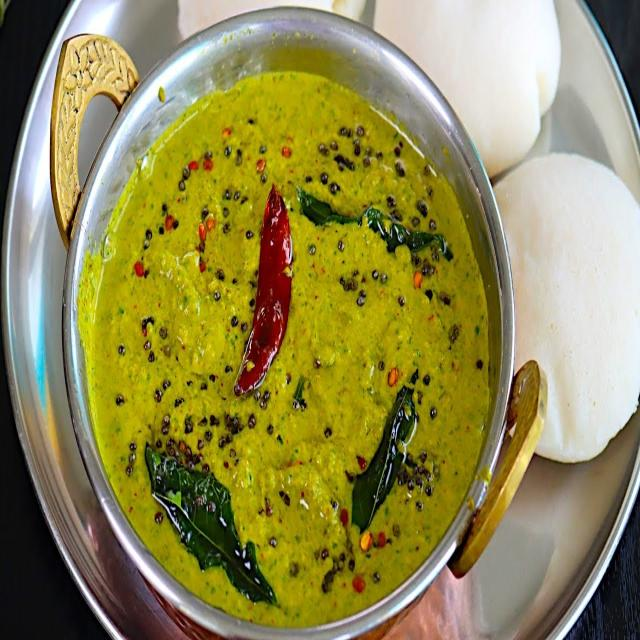idly: (494, 154, 640, 462), (377, 2, 555, 174)
puthina chutney: (84, 34, 485, 640)
